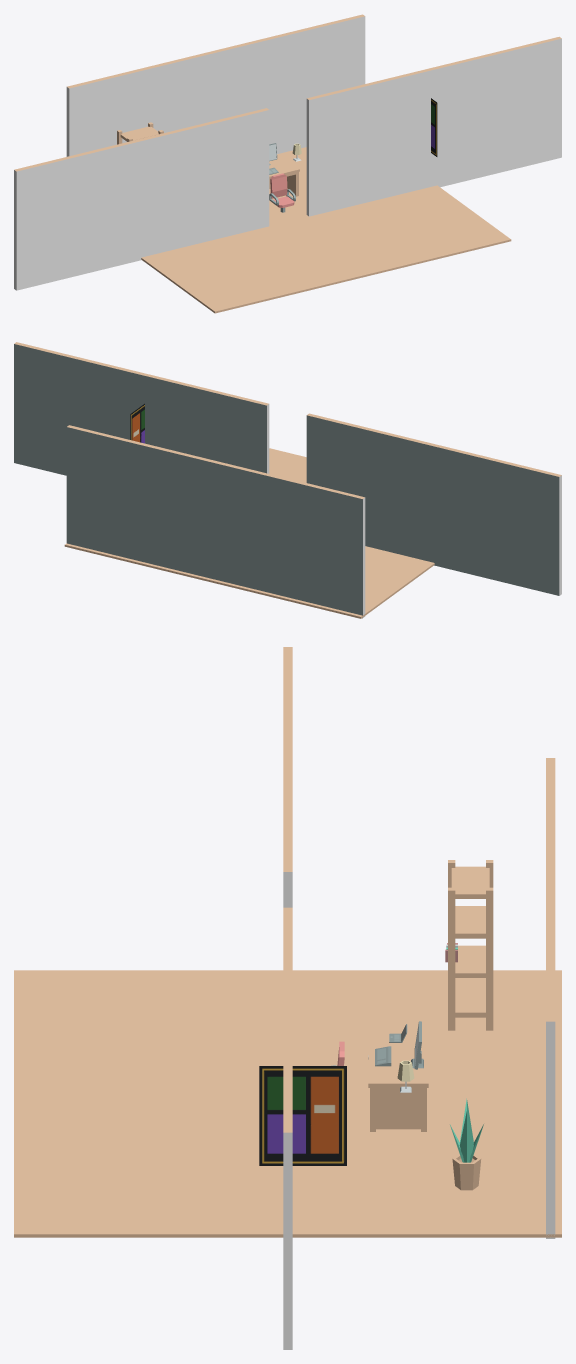
The model's file is interior-war.glb.
3 renders of one model, top to bottom at view 1: azimuth 30°, elevation 25°; view 2: azimuth 150°, elevation 25°; view 3: azimuth 270°, elevation 25°, orthographic. The views are drawn at different scales.
Visible parts, largest first — view 1: room.war.wall.w, room.war.wall.e, room.war.floor, room.war.wall.n, room.war.chair, room.war.desk, room.war.shelf, room.war.poster; view 2: room.war.wall.n, room.war.wall.w, room.war.wall.e, room.war.floor, room.war.poster; view 3: room.war.floor, room.war.poster, room.war.shelf, room.war.wall.n, room.war.desk, room.war.wall.e, room.war.wall.w, room.war.plant.
Boxes of the visible parts, x1,y1,x2,y2 form: room.war.wall.w: (14, 108, 269, 290); room.war.wall.e: (306, 36, 561, 216); room.war.floor: (141, 147, 511, 313); room.war.wall.n: (66, 14, 365, 156); room.war.chair: (269, 173, 295, 212); room.war.desk: (269, 157, 299, 196); room.war.shelf: (117, 122, 163, 144); room.war.poster: (431, 98, 437, 156); room.war.wall.n: (66, 425, 365, 618); room.war.wall.w: (306, 413, 561, 595); room.war.wall.e: (14, 342, 269, 475); room.war.floor: (64, 448, 434, 618); room.war.poster: (130, 403, 144, 443); room.war.floor: (14, 970, 561, 1237); room.war.poster: (259, 1066, 346, 1165); room.war.shelf: (448, 860, 493, 1030); room.war.wall.n: (546, 758, 555, 1238); room.war.desk: (368, 1035, 428, 1131); room.war.wall.e: (283, 907, 292, 1349); room.war.wall.w: (283, 647, 292, 907); room.war.plant: (450, 1098, 483, 1190).
Size of the model in its own units: 15.1 by 3.15 by 7.2.
34 materials, 1 textured.
